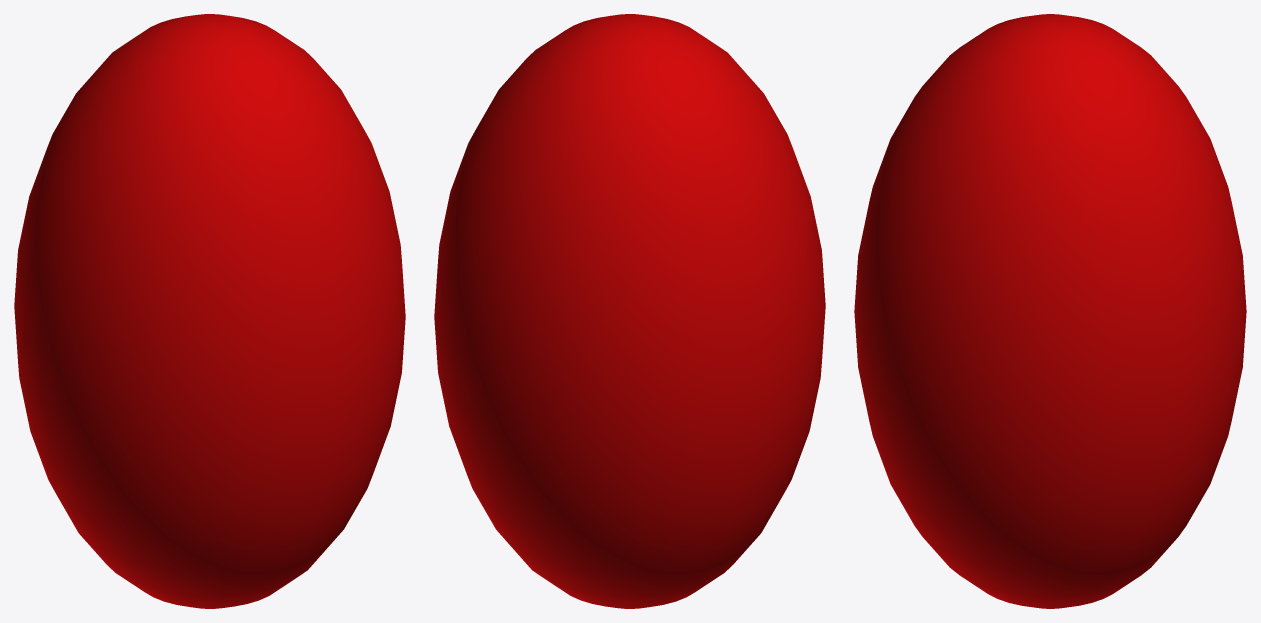
File: beacon.glb
3 views of the same model, side by side, from view 1: azimuth 30°, elevation 25°; view 2: azimuth 150°, elevation 25°; view 3: azimuth 270°, elevation 25° (orthographic).
Parts seen in each view (by area): view 1: Sphere.011; view 2: Sphere.011; view 3: Sphere.011.
Boxes of the visible parts, <box> form: Sphere.011: <box>14,14,405,608</box>; Sphere.011: <box>434,14,825,608</box>; Sphere.011: <box>854,14,1246,608</box>.
Size of the model in its own units: 0.0327 by 0.0527 by 0.0327.
